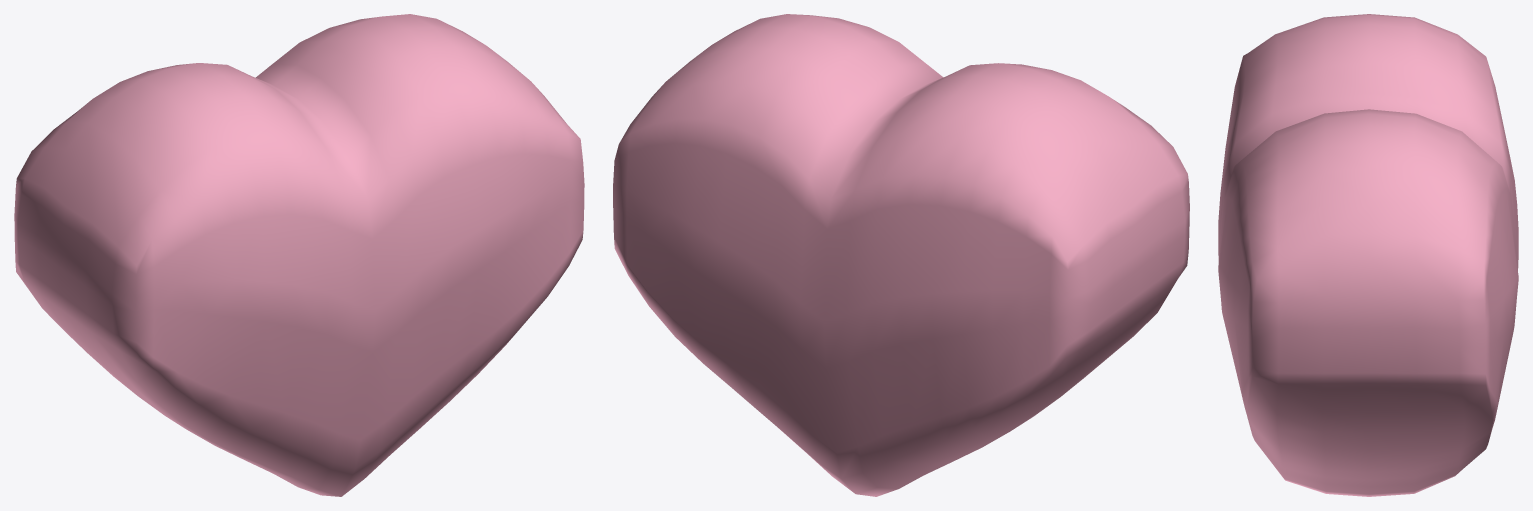
The model's file is Heart.fbx.
The picture shows the model from 3 angles, left to right: view 1: azimuth 30°, elevation 25°; view 2: azimuth 150°, elevation 25°; view 3: azimuth 270°, elevation 25°; orthographic projection.
Parts seen in each view (by area): view 1: pCube3; view 2: pCube3; view 3: pCube3.
Boxes of the visible parts, <box> form: pCube3: <box>14,14,584,496</box>; pCube3: <box>613,14,1189,496</box>; pCube3: <box>1218,14,1518,496</box>.
Bounding box in the file's own units: 1.89 × 1.61 × 1.04.
